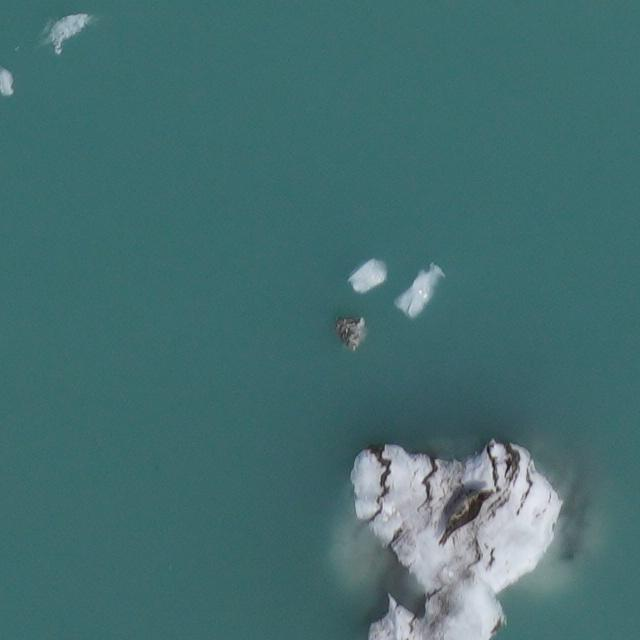seal: (433, 477, 496, 555)
